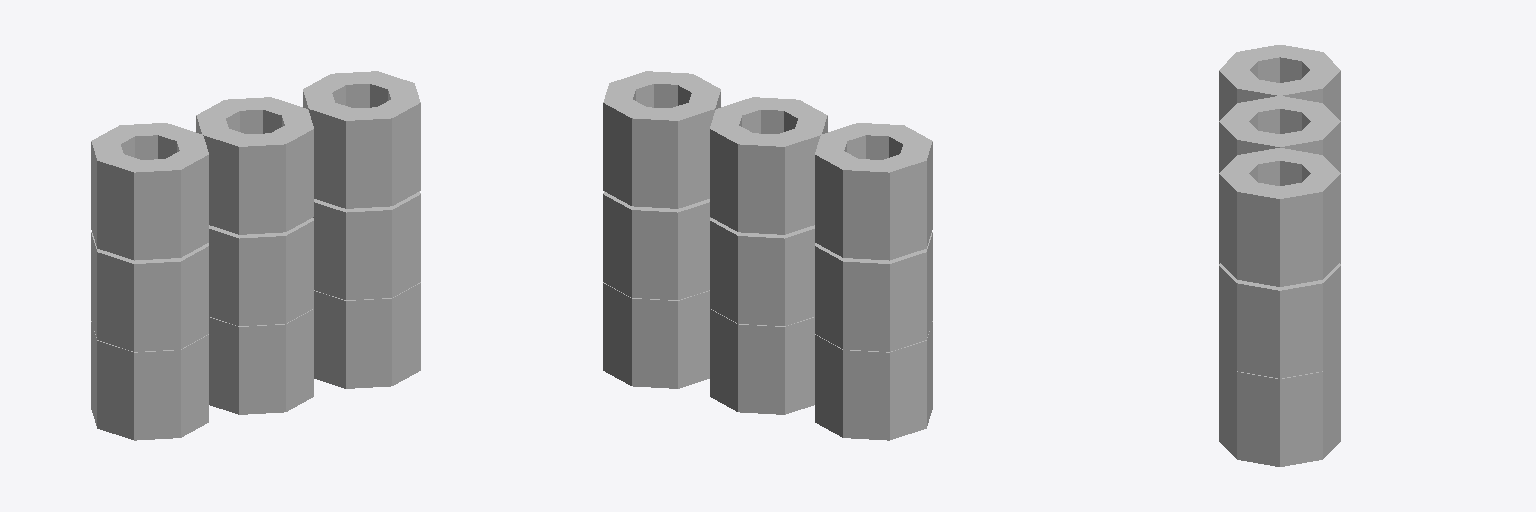
File: ToiletPaper.obj
3 views of the same model, side by side, from view 1: azimuth 30°, elevation 25°; view 2: azimuth 150°, elevation 25°; view 3: azimuth 270°, elevation 25° (orthographic).
Visible parts, largest first — view 1: ToiletPaper; view 2: ToiletPaper; view 3: ToiletPaper.
Part boxes in pixels (left/top/right/bottom): ToiletPaper: left=91, top=71, right=420, bottom=440; ToiletPaper: left=603, top=71, right=932, bottom=440; ToiletPaper: left=1219, top=45, right=1340, bottom=466.
Bounding box in the file's own units: 1.02 × 0.8236 × 0.34.